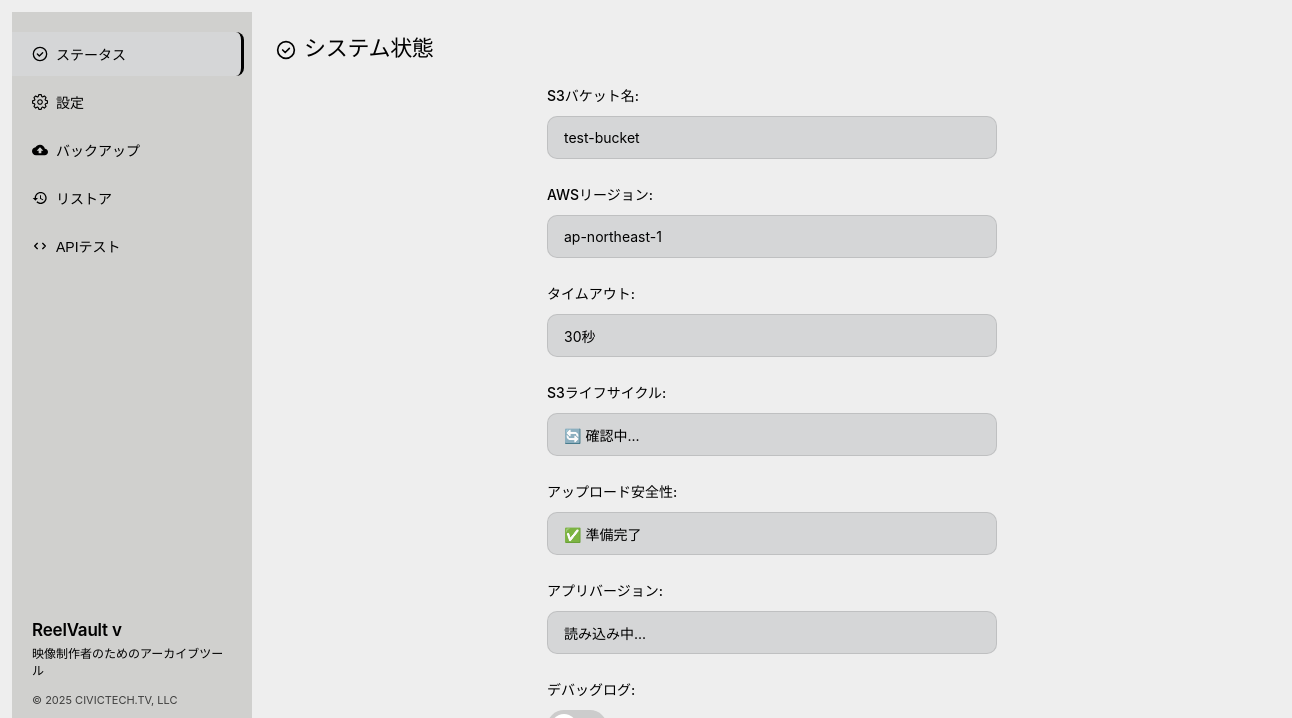
ConfigManager › should handle AWS authentication successfully
// 設定タブに切り替え
Click the button "設定" at point(128, 102), box [12,80,244,124]
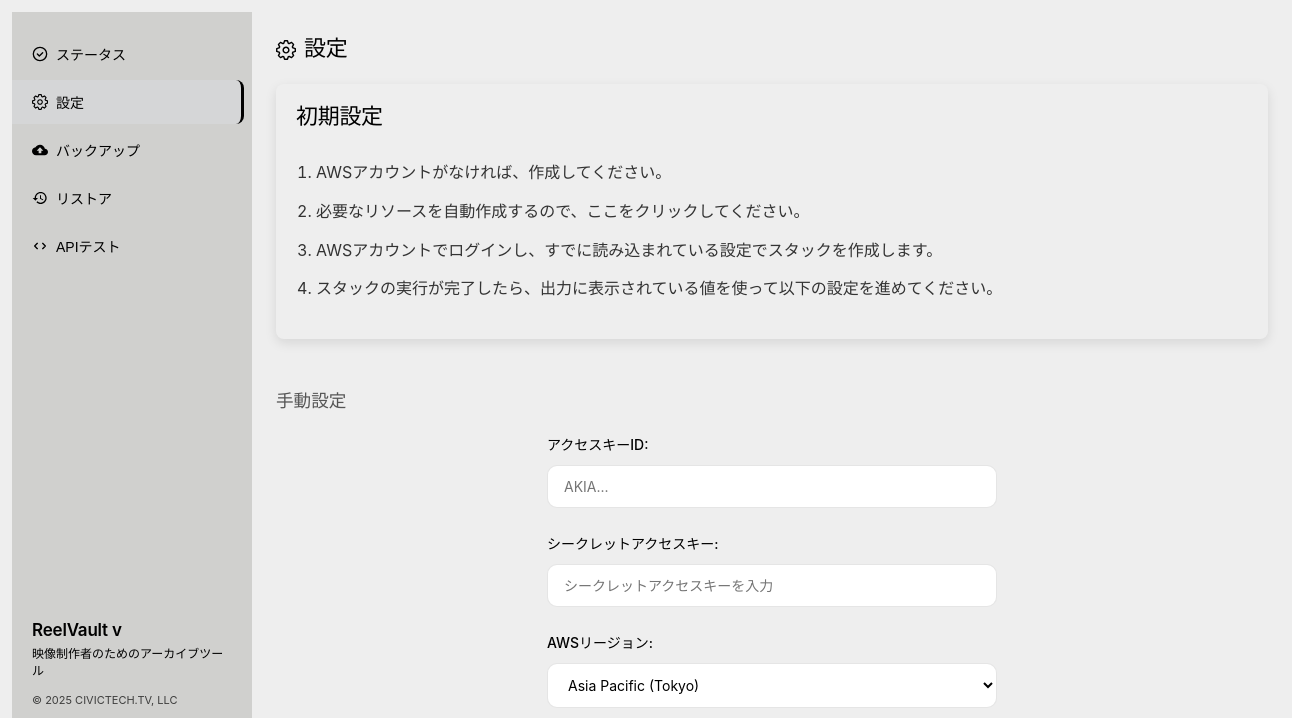
// 認証用フィールドを入力
Type "test-access-key" into the field labelled "アクセスキーID:" at point(772, 487), box [547,465,997,508]
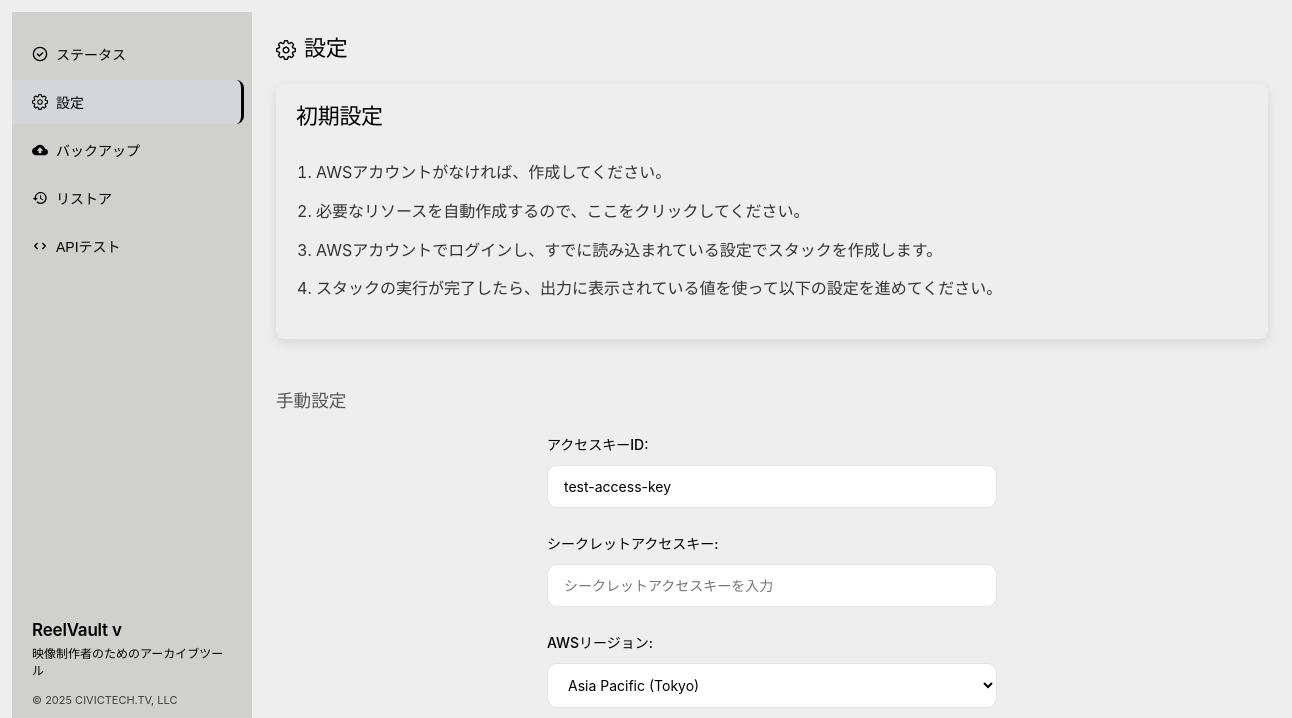
Type "test-secret-key" into the password field labelled "シークレットアクセスキー:" at point(772, 586), box [547,564,997,607]
(page scrolled)
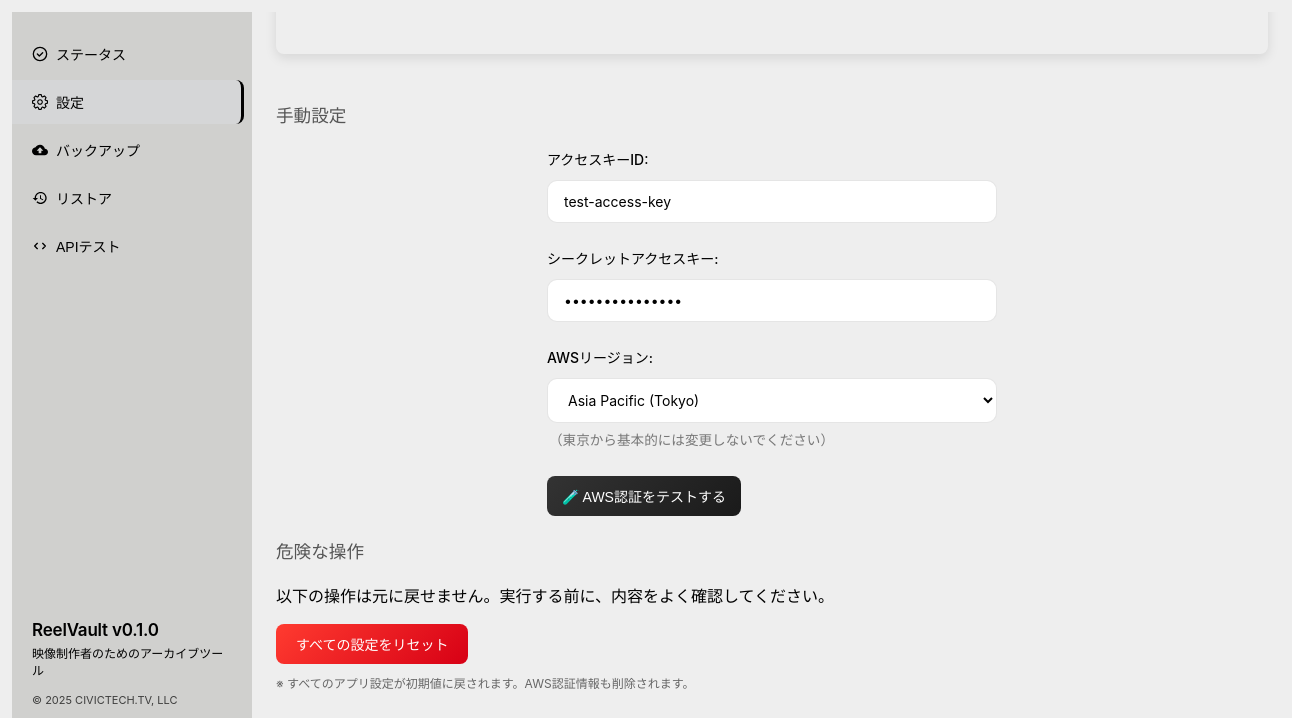
Now the button "🧪 AWS認証をテストする" is enabled
Click the button "🧪 AWS認証をテストする" at point(644, 496), box [547,476,741,516]
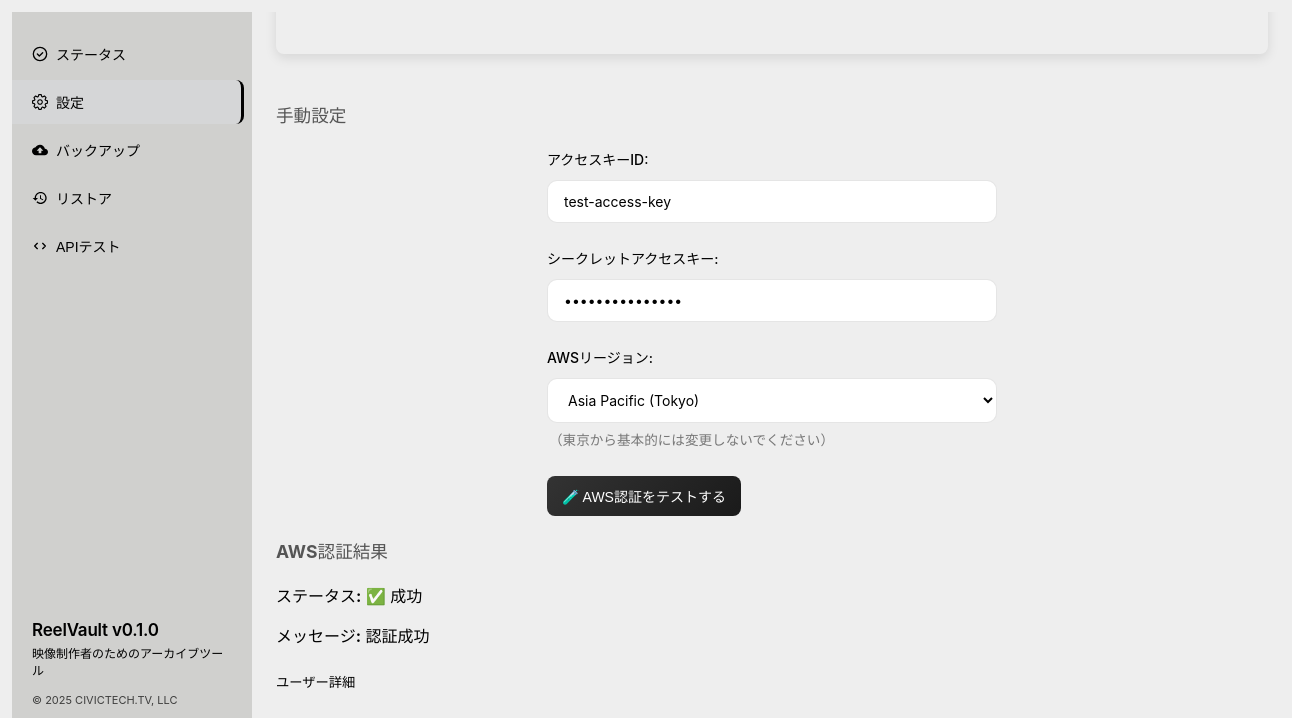
Now the text "ステータス: ✅ 成功" is shown, box [276,586,422,606]
